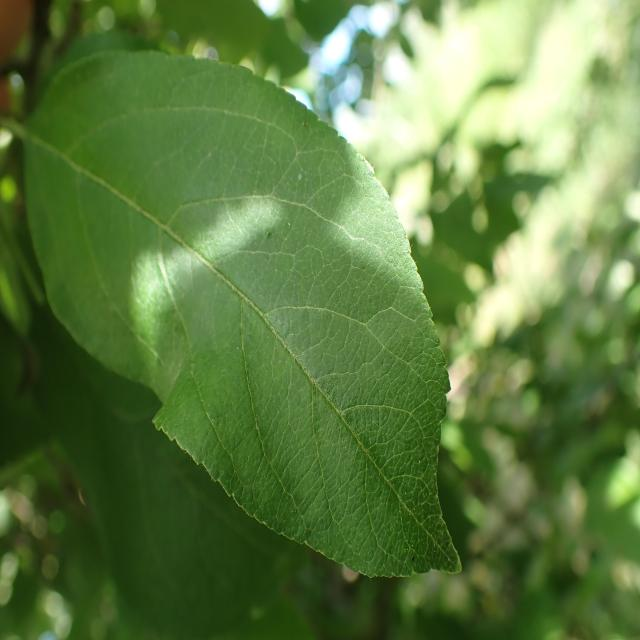healthy: (25, 49, 462, 578)
